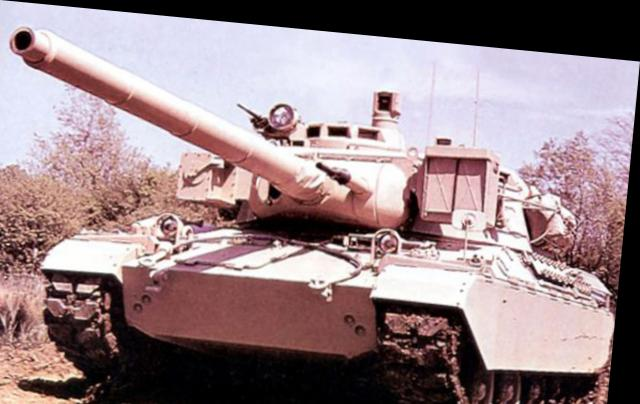tank: (38, 100, 603, 402)
